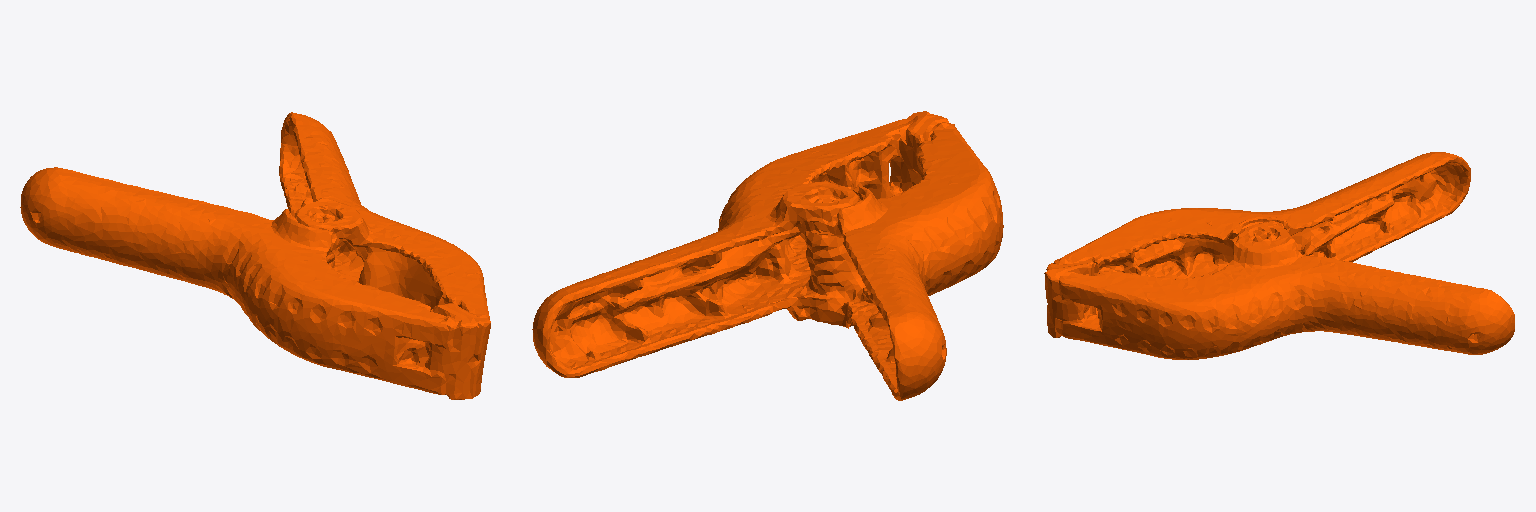
robot.urdf — 051_large_clamp:
<?xml version="1.0" ?>
<robot name="051_large_clamp">
   <material name="obj_color">
      <color rgba="1.0 0.423529411765 0.0392156862745 1.0"/>
   </material>
   <link name="top">
      <inertial>
         <origin rpy="0.0001506035821540289 0.0002792484596837323 0.0004071325286122538" xyz="0.002900912945307615 -0.01010051197097306 -0.0008967694700117134"/>
         <mass value="0.1755752199796584"/>
         <inertia ixx="0.0002764771787866337" ixy="2.164199672921146e-05" ixz="1.374198679233237e-05" iyy="0.0001553508516159689" iyz="-1.375247559352179e-05" izz="0.0004051565400474125"/>
      </inertial>
      <visual>
         <origin rpy="0 0 0" xyz="0 0 0"/>
         <geometry>
            <mesh filename="top_watertight_tiny.stl" scale="1 1 1"/>
         </geometry>
         <material name="obj_color"/>
      </visual>
      <collision>
         <origin rpy="0 0 0" xyz="0 0 0"/>
         <geometry>
            <mesh filename="top_watertight_tiny.obj" scale="1 1 1"/>
         </geometry>
      </collision>
   </link>
   <link name="bottom">
      <inertial>
         <origin rpy="1.633333333199431e-08 1.633333333199431e-08 1.633333333362855e-08" xyz="0.3464080000000008 0.3464080000000008 0.3464080000000008"/>
         <mass value="0.0009800000000000017"/>
         <inertia ixx="1.633333333253906e-08" ixy="5.447480642029219e-19" ixz="5.447480642029219e-19" iyy="1.633333333253906e-08" iyz="5.447480642029219e-19" izz="1.633333333253906e-08"/>
      </inertial>
      <visual>
         <origin rpy="0 0 0" xyz="0 0 0"/>
         <geometry>
            <mesh filename="bottom_watertight_tiny.stl" scale="1 1 1"/>
         </geometry>
         <material name="obj_color"/>
      </visual>
   </link>
   <joint name="rotation" type="revolute">
      <origin xyz="0 0 0"/>
      <axis xyz="0 0 -1"/>
      <parent link="bottom"/>
      <child link="top"/>
      <dynamics damping="1.0" friction="1.0"/>
      <limit effort="0.1" velocity="0.1" lower="0" upper="0.001"/>
   </joint>
</robot>

--- What the picture shows (computed from the rendered views, not written in the file) ---
3 views of the same robot in one strip: view 1: azimuth 30°, elevation 25°; view 2: azimuth 150°, elevation 25°; view 3: azimuth 270°, elevation 25° (orthographic).
Robot: 051_large_clamp — 2 links, 1 joints (1 revolute); root link bottom; default pose: every joint at zero.
Links seen in each view (by area): view 1: top; view 2: top; view 3: top.
Link boxes in pixels (x1,y1,x2,y2): top: (20,112,490,399); top: (532,111,1003,400); top: (1044,152,1514,359).
Size in the robot's own frame: 0.12 by 0.1711 by 0.0392 metres.
1 mesh visuals loaded from 2 distinct referenced files (1 binary STL); not drawn: 1 (reference not matched to a file when rendering).
